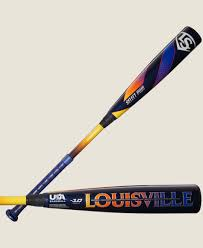baseball bat: (5, 26, 202, 221), (1, 182, 201, 214)
